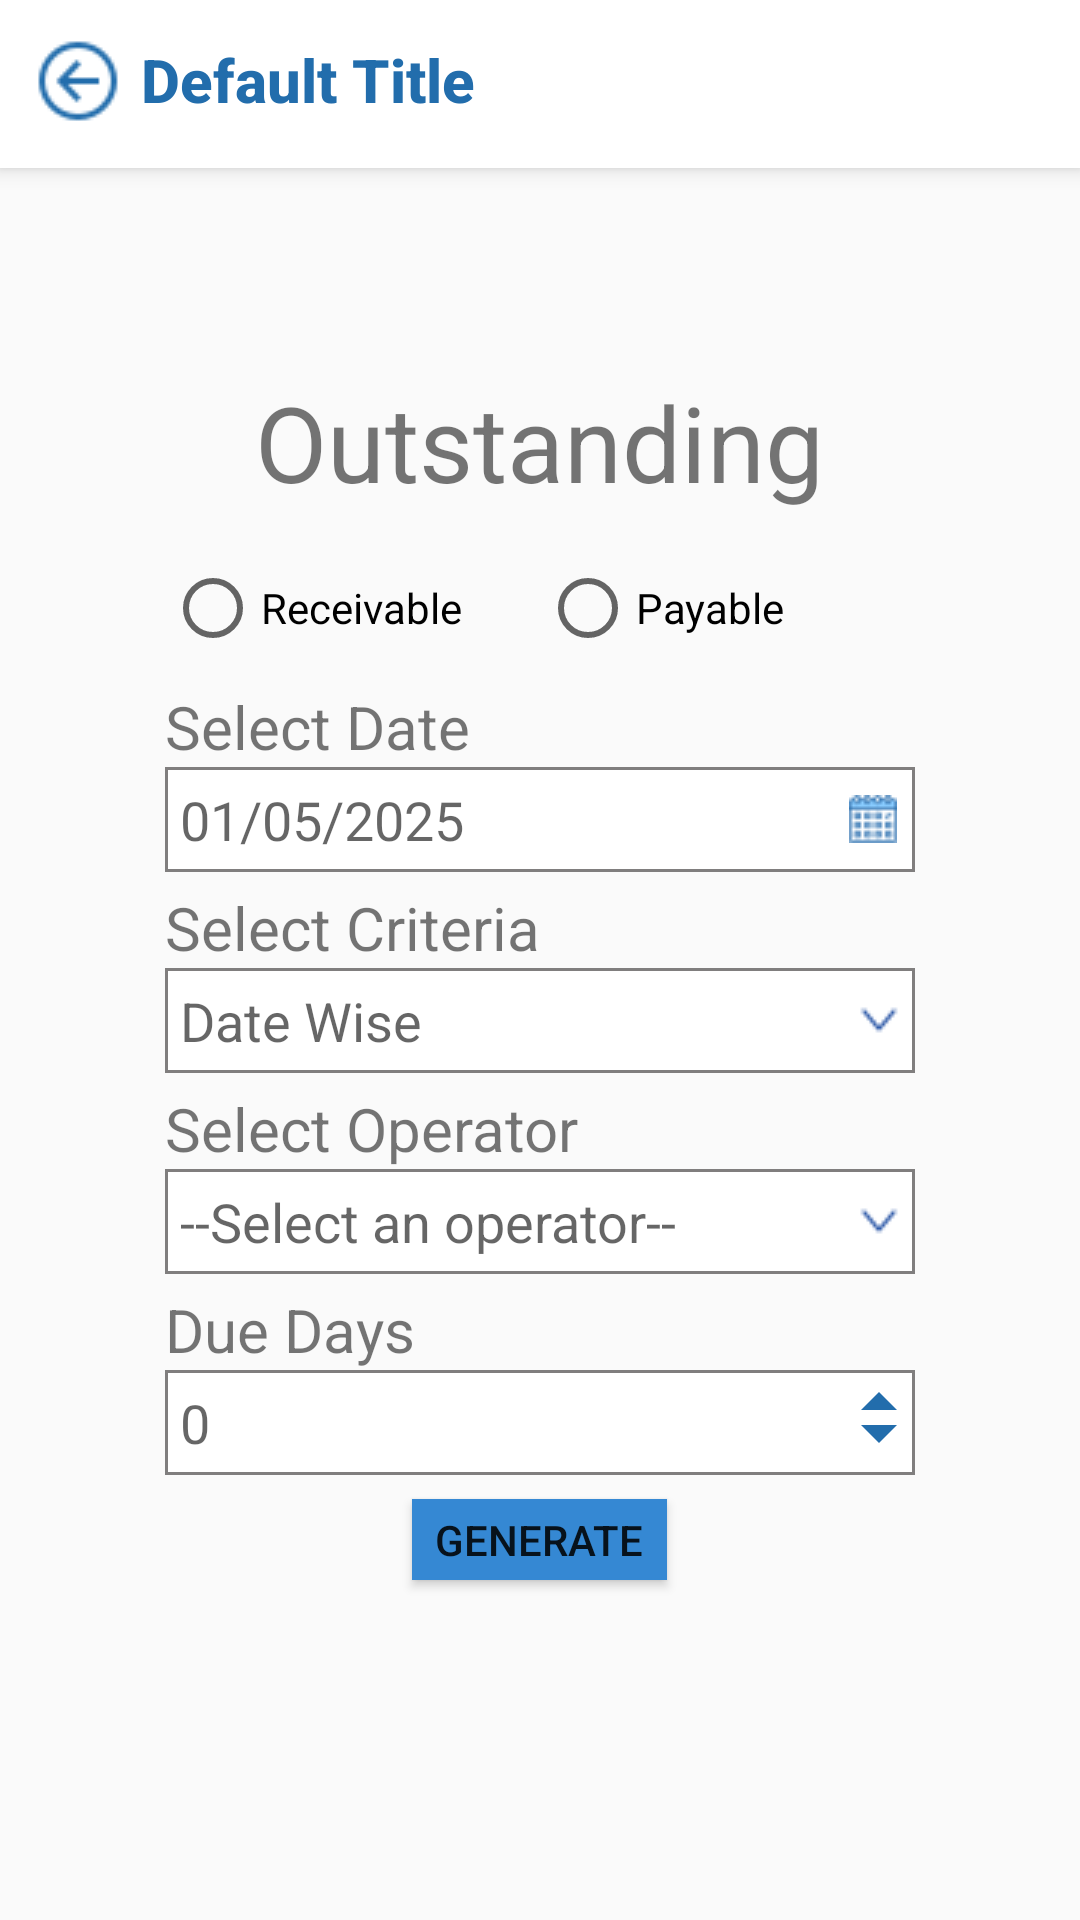

Point at icon controls on the screen. Image size 1080w x 1920h, points as [x,y].
Back: [78,81]
